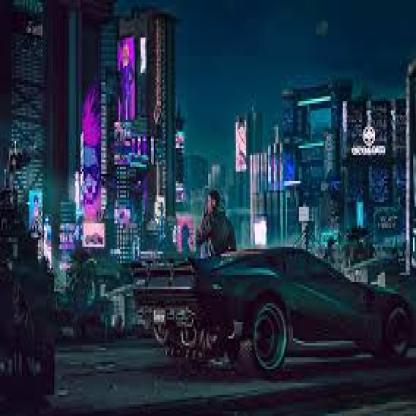car: (131, 251, 410, 374)
